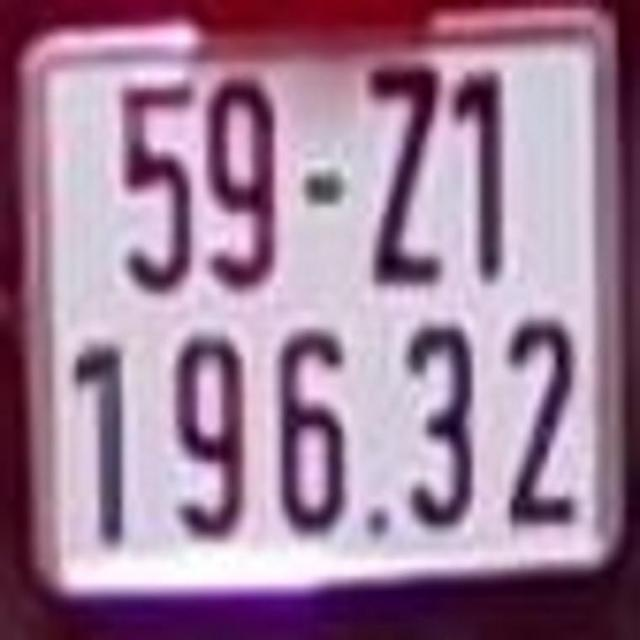1: (452, 60, 517, 282), (68, 338, 132, 557)
2: (491, 308, 578, 526)
3: (399, 312, 477, 533)
5: (112, 74, 202, 298)
6: (270, 316, 350, 536)
9: (165, 322, 251, 548), (205, 72, 288, 300)
Z: (358, 57, 446, 290)
